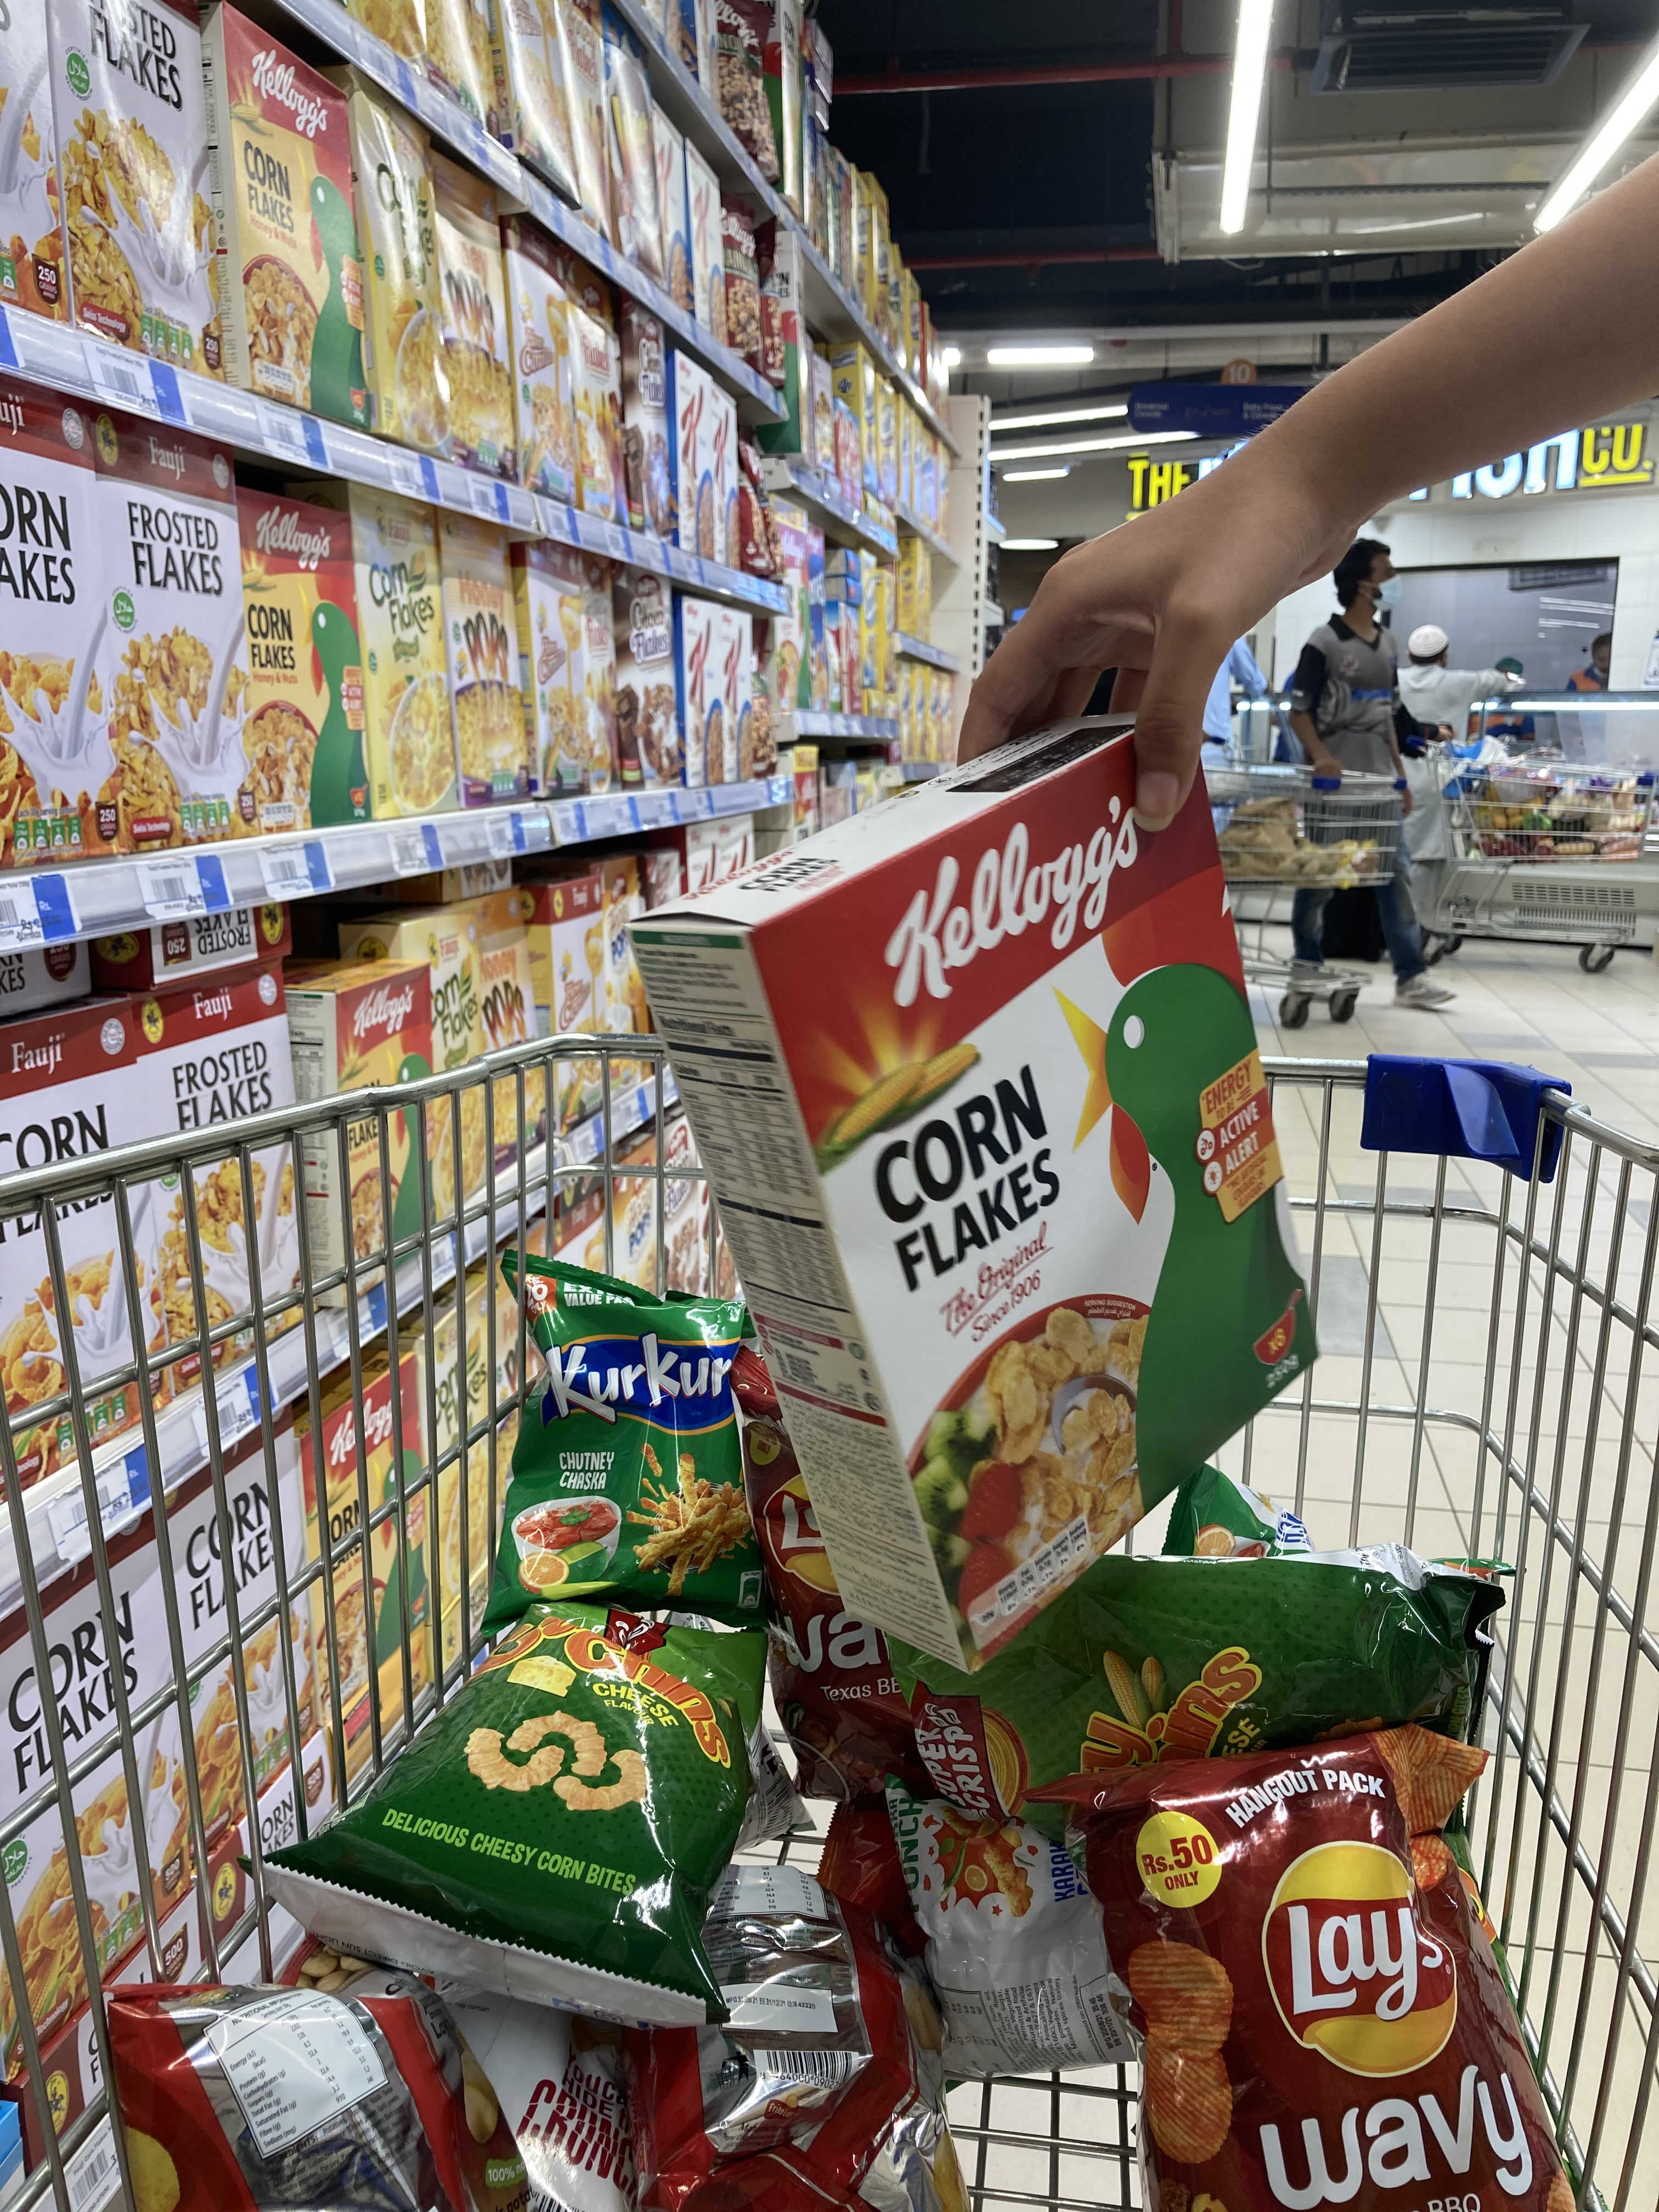Kellogg's Corn Flakes: (626, 732, 1328, 1676)
